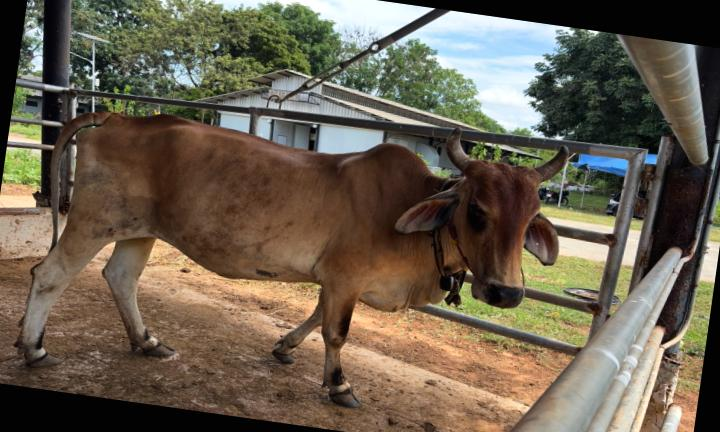Brahman: (15, 112, 568, 407)
